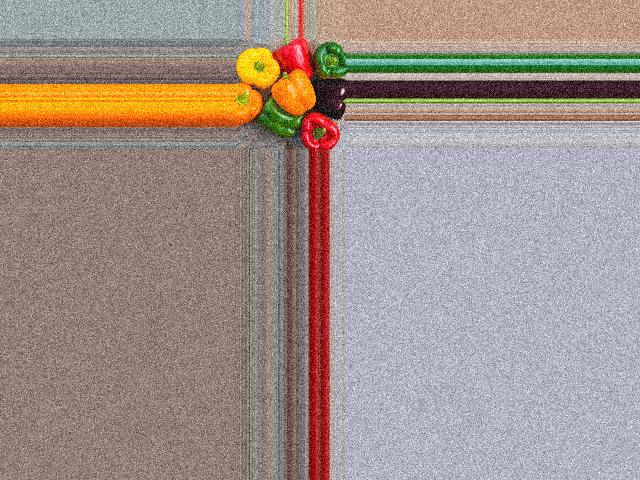bell_pepper: (235, 84, 271, 136)
